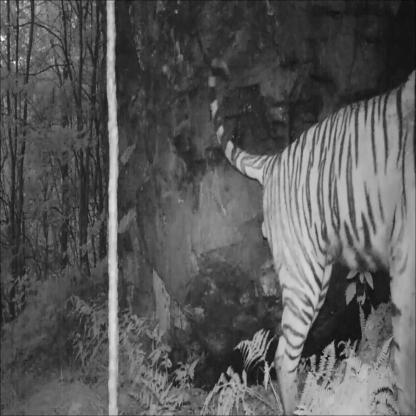Tiger: (207, 57, 416, 390)
